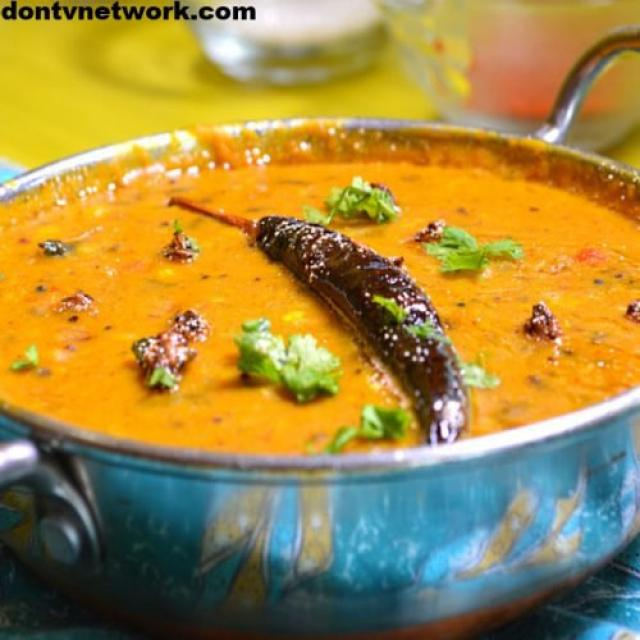dal: (0, 136, 640, 450)
